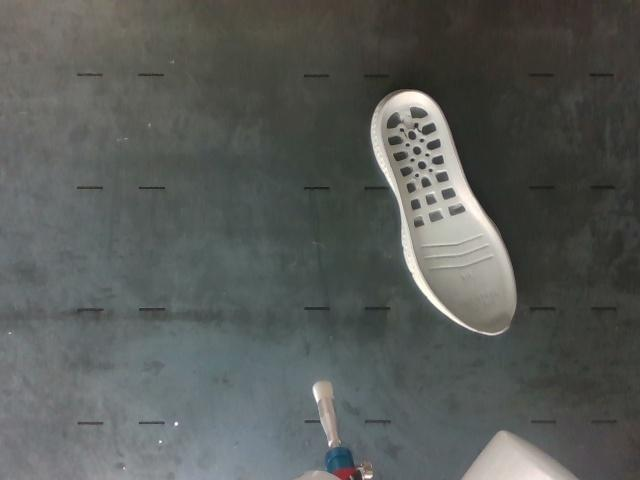shoes: (380, 92, 515, 334)
